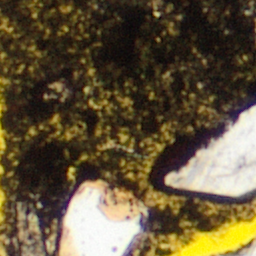cement_matrix: (0, 0, 255, 255), (20, 214, 37, 240)
cracks: (156, 200, 255, 255), (0, 97, 4, 155), (0, 232, 7, 255), (0, 185, 4, 225), (0, 164, 1, 177), (148, 254, 157, 255)
gravel_crushed_stones: (172, 109, 255, 193), (64, 186, 138, 255), (21, 215, 36, 239), (24, 244, 41, 255), (240, 244, 255, 255)
